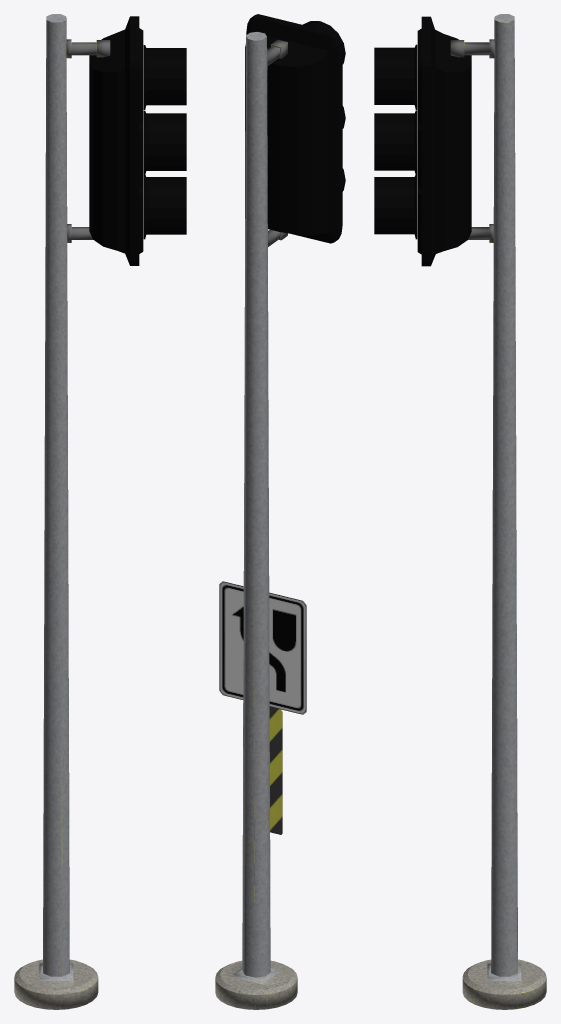
Rendered from MiddleTrafficLight.fbx.
3 renders of one model, left to right at view 1: azimuth 90°, elevation 25°; view 2: azimuth 150°, elevation 25°; view 3: azimuth 270°, elevation 25°, orthographic.
Visible parts, largest first — view 1: MiddleTrafficPost, traffic light; view 2: MiddleTrafficPost, traffic light; view 3: MiddleTrafficPost, traffic light.
Boxes of the visible parts, left/top/right/bottom form: MiddleTrafficPost: left=14, top=14, right=110, bottom=1009; traffic light: left=89, top=16, right=186, bottom=265; MiddleTrafficPost: left=215, top=31, right=306, bottom=1009; traffic light: left=245, top=14, right=345, bottom=243; MiddleTrafficPost: left=450, top=14, right=546, bottom=1009; traffic light: left=374, top=16, right=471, bottom=266.
Size of the model in its own units: 63.96 by 639 by 102.
5 materials, 4 textured.
